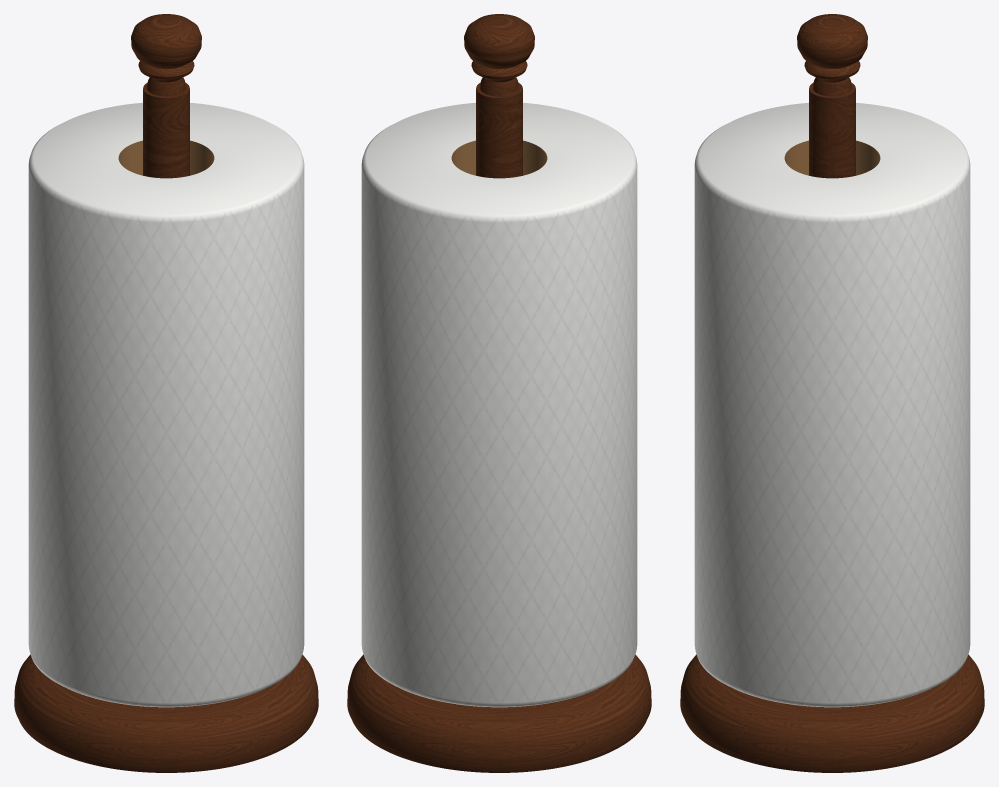
Rendered from tissue_holder.glb.
3 views of the same model, side by side, from view 1: azimuth 30°, elevation 25°; view 2: azimuth 150°, elevation 25°; view 3: azimuth 270°, elevation 25° (orthographic).
Parts seen in each view (by area): view 1: Vintageware Wooden Kitchen Tissue Roll Holder; view 2: Vintageware Wooden Kitchen Tissue Roll Holder; view 3: Vintageware Wooden Kitchen Tissue Roll Holder.
Boxes of the visible parts, x1=… form: Vintageware Wooden Kitchen Tissue Roll Holder: x1=14, y1=14, x2=318, y2=772; Vintageware Wooden Kitchen Tissue Roll Holder: x1=347, y1=14, x2=651, y2=772; Vintageware Wooden Kitchen Tissue Roll Holder: x1=680, y1=14, x2=984, y2=772.
Bounding box in the file's own units: 0.1304 × 0.3268 × 0.1304.
4 materials, 2 textured.
